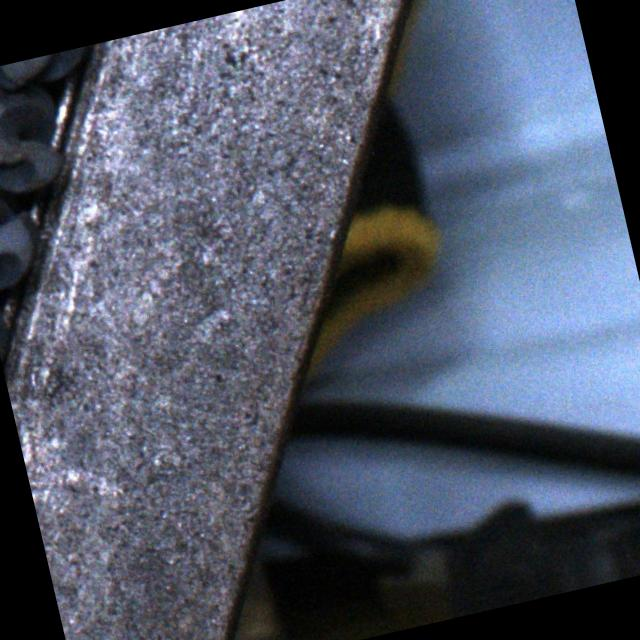tool_b: (0, 55, 72, 205), (0, 163, 42, 292)
